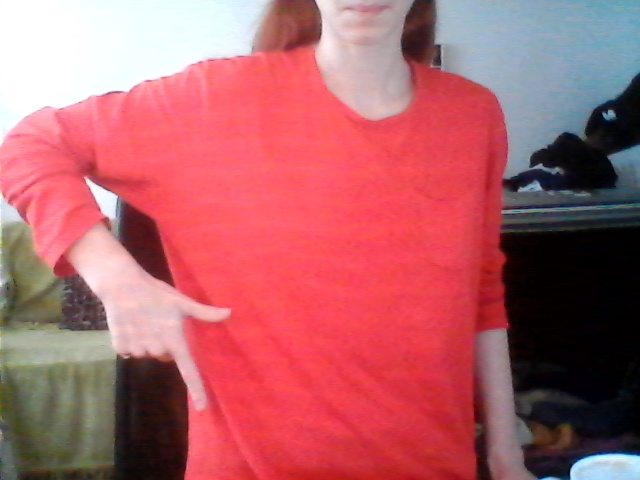policia: (87, 260, 252, 428)
